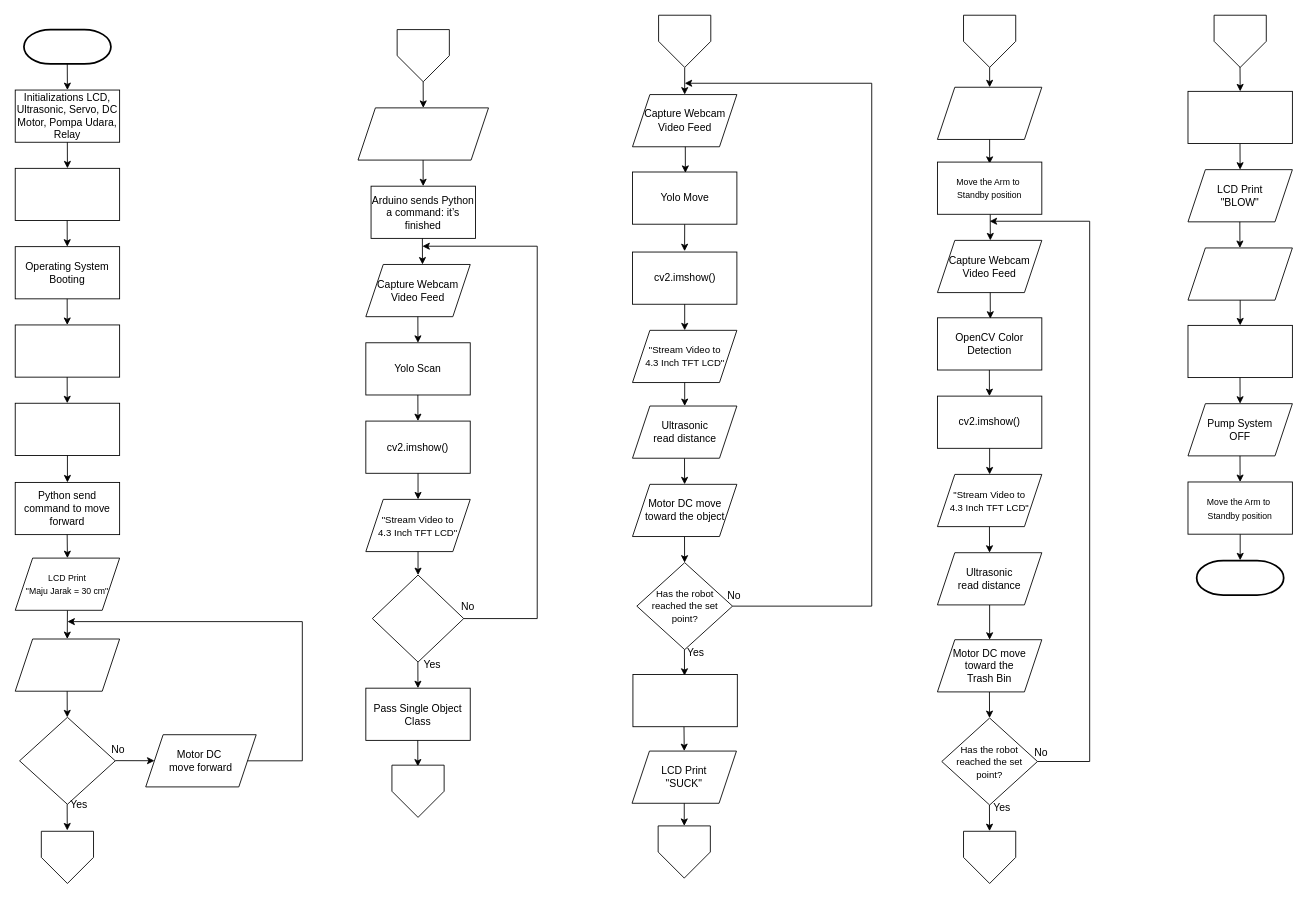
Some shapes in this 1308 by 899 pixel diagram are drawn without their labels. Each missing label, with the box of its shape:
Arduino waiting Python command: (14, 167, 120, 221)
Delay 5 Second: (1187, 325, 1292, 378)
END: (1195, 559, 1284, 596)
Motor DC stop: (357, 107, 489, 160)
Move the Arm toward the object: (632, 674, 737, 727)
Object Detected?: (371, 574, 464, 662)
Process moves the Arm toward the trash bin: (1187, 90, 1292, 144)
Pump System Blow: (1187, 247, 1292, 300)
Pump System Suck: (937, 86, 1042, 139)
Python initializations Webcam dan serial communication: (14, 402, 120, 455)
robot distance equal 30 cm: (19, 716, 115, 804)
Runnning Python Script: (14, 324, 120, 377)
START: (23, 28, 111, 64)
Ultrasonic read distance from table: (14, 638, 120, 691)
